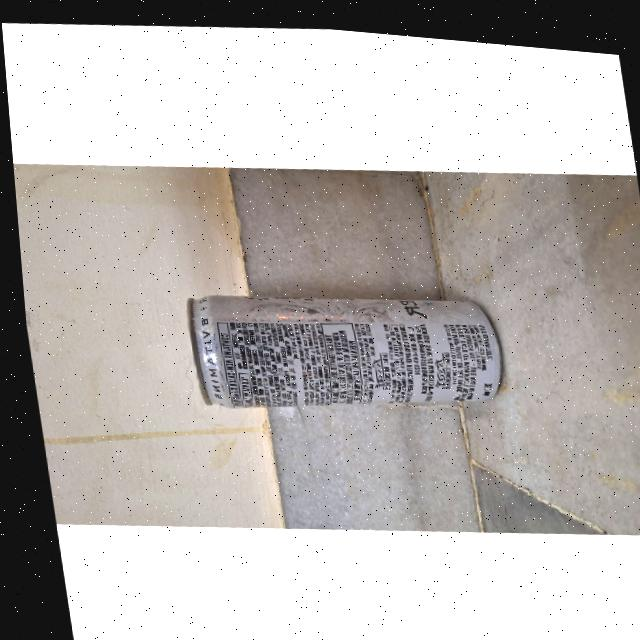White Monster: (162, 266, 507, 433)
